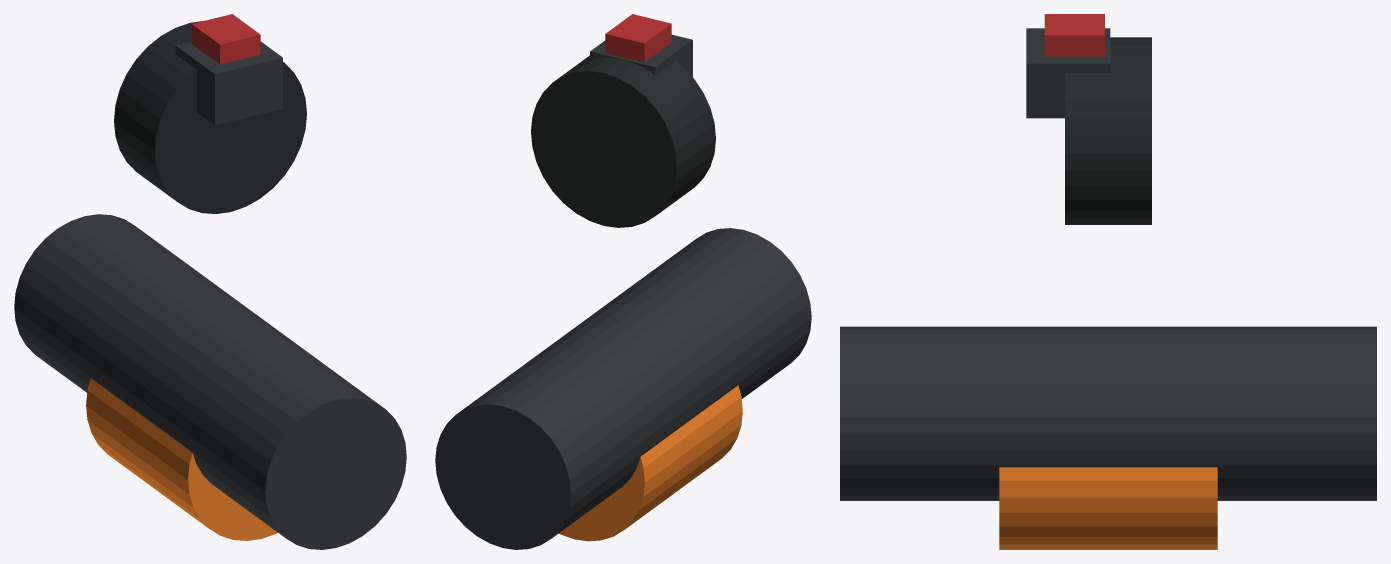
File: pepper_spray.glb
The picture shows the model from 3 angles, left to right: view 1: azimuth 30°, elevation 25°; view 2: azimuth 150°, elevation 25°; view 3: azimuth 270°, elevation 25°; orthographic projection. The views are drawn at different scales.
Visible parts, largest first — view 1: Can, Cap, Label, Nozzle, Button; view 2: Can, Cap, Label, Button, Nozzle; view 3: Can, Label, Cap, Nozzle, Button.
Boxes of the visible parts, x1,y1,x2,y2 form: Can: (14, 214, 406, 549); Cap: (114, 21, 306, 213); Label: (86, 378, 277, 540); Nozzle: (175, 41, 282, 125); Button: (191, 14, 260, 64); Can: (435, 228, 811, 549); Cap: (531, 55, 715, 227); Label: (559, 385, 742, 541); Button: (605, 14, 671, 62); Nozzle: (590, 34, 692, 76); Can: (840, 326, 1376, 500); Label: (999, 467, 1217, 549); Cap: (1065, 37, 1151, 224); Nozzle: (1026, 28, 1110, 118); Button: (1044, 14, 1104, 56).
Size of the model in its own units: 0.056 by 0.17 by 0.16.
